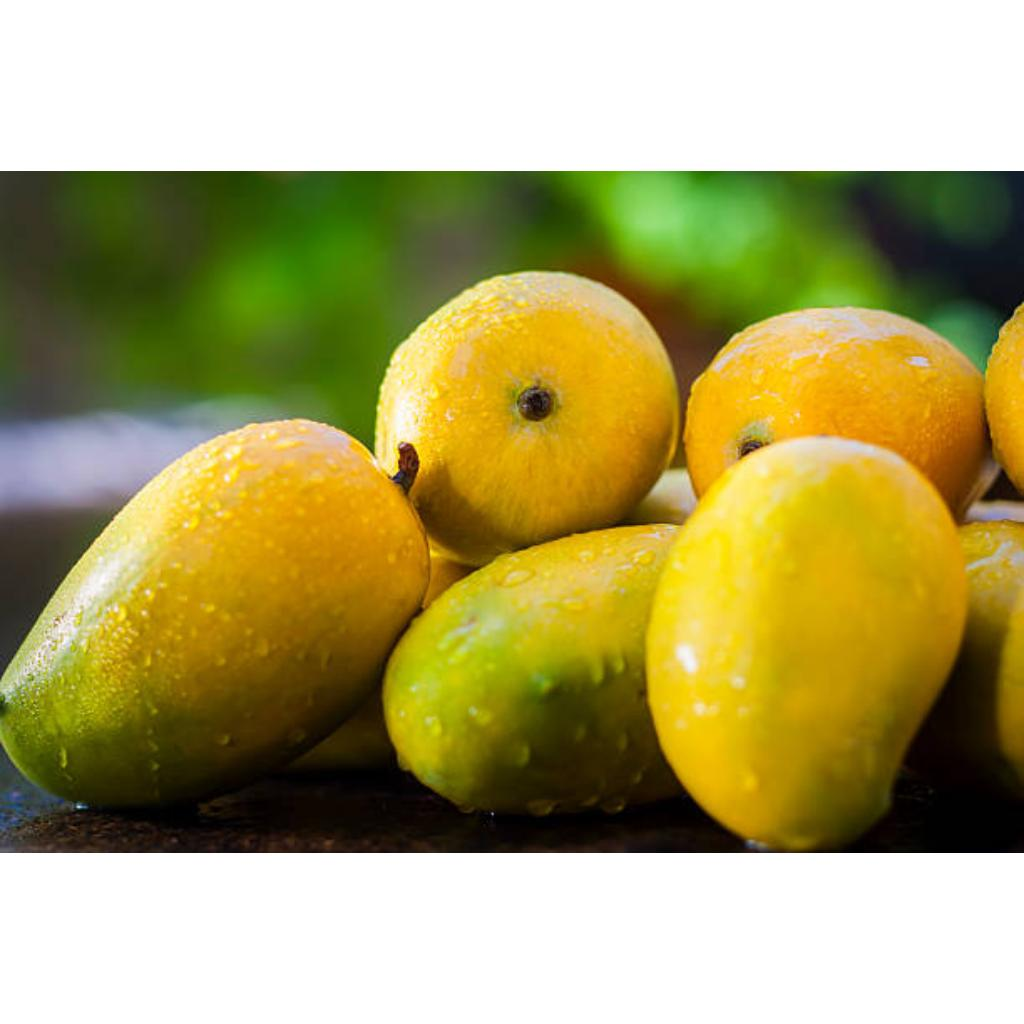mango: (0, 419, 428, 808), (646, 437, 966, 851), (376, 271, 678, 564), (384, 527, 680, 814), (684, 307, 988, 516)
